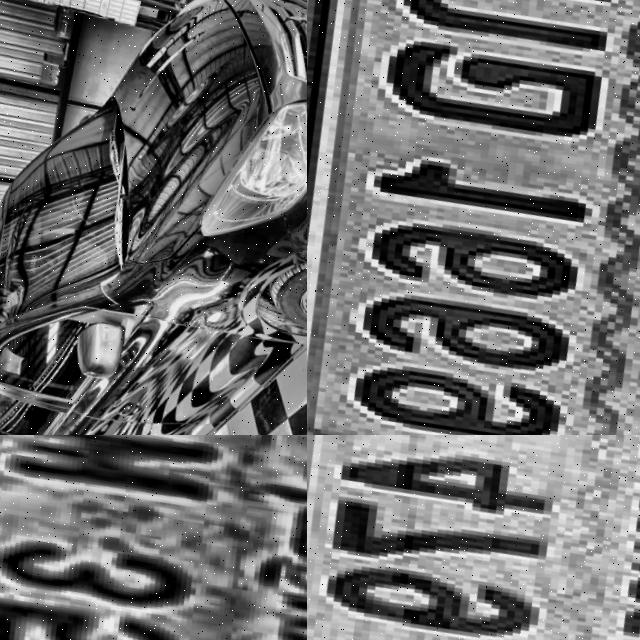license-plate: (307, 0, 640, 435), (307, 435, 640, 640), (0, 435, 307, 640)
